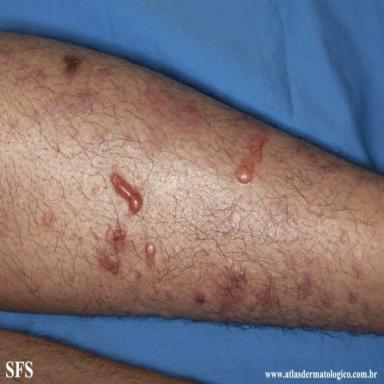Epidermolysis-Bullosa-Pruriginosa: (235, 132, 267, 184), (98, 227, 126, 274), (111, 173, 142, 213), (145, 243, 156, 266), (194, 288, 205, 303)
